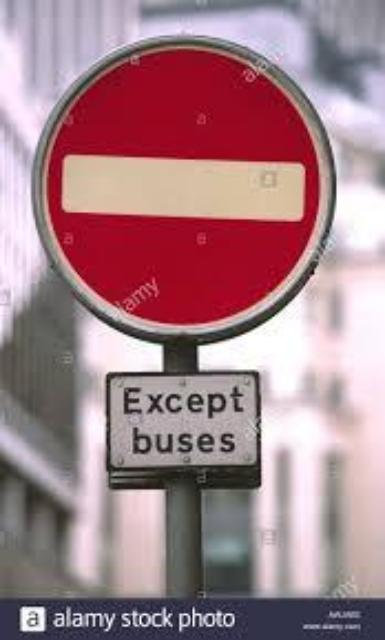B2: (29, 31, 339, 343)
